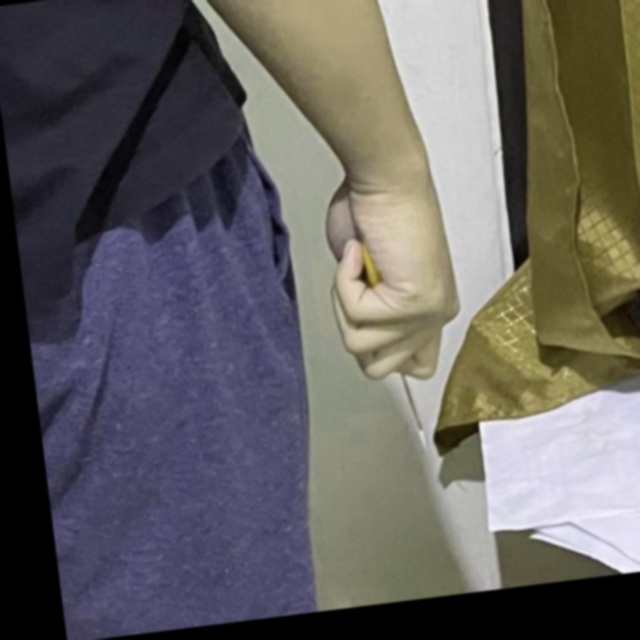Sharp-Object: (354, 232, 433, 462)
